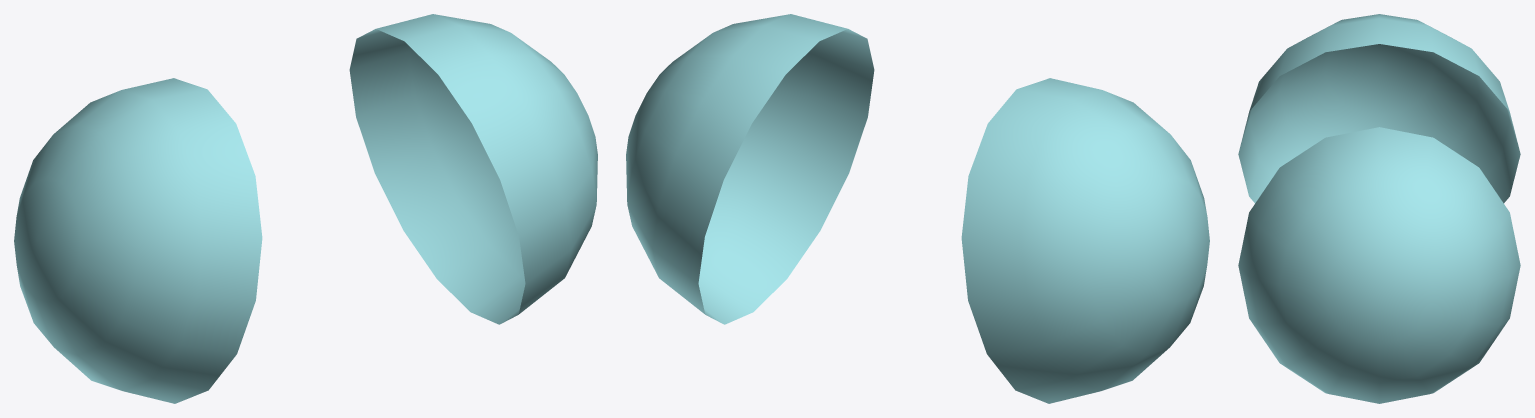
Rendered from Anomalis_Exported_Eyes.fbx.
3 renders of one model, left to right at view 1: azimuth 30°, elevation 25°; view 2: azimuth 150°, elevation 25°; view 3: azimuth 270°, elevation 25°, orthographic. The views are drawn at different scales.
Visible parts, largest first — view 1: R.Eye_low; view 2: R.Eye_low; view 3: R.Eye_low.
Part boxes in pixels (bbox=[...]): R.Eye_low: bbox=[14, 14, 597, 403]; R.Eye_low: bbox=[626, 14, 1209, 403]; R.Eye_low: bbox=[1238, 14, 1520, 403].
Size of the model in its own units: 0.2941 by 0.1501 by 0.1532.
